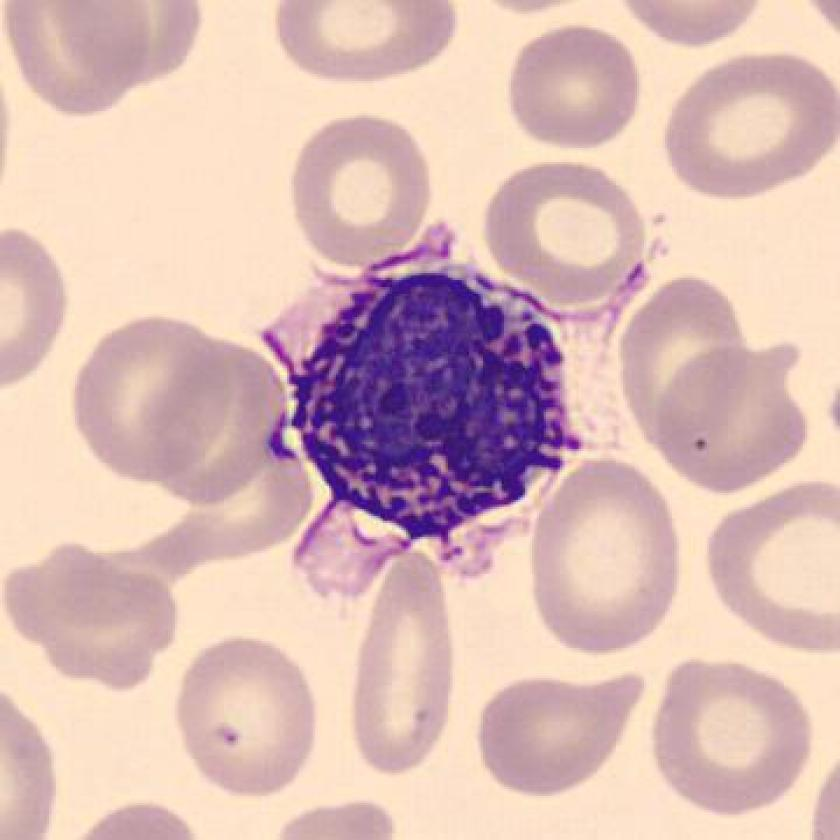basophil: (272, 263, 575, 540)
